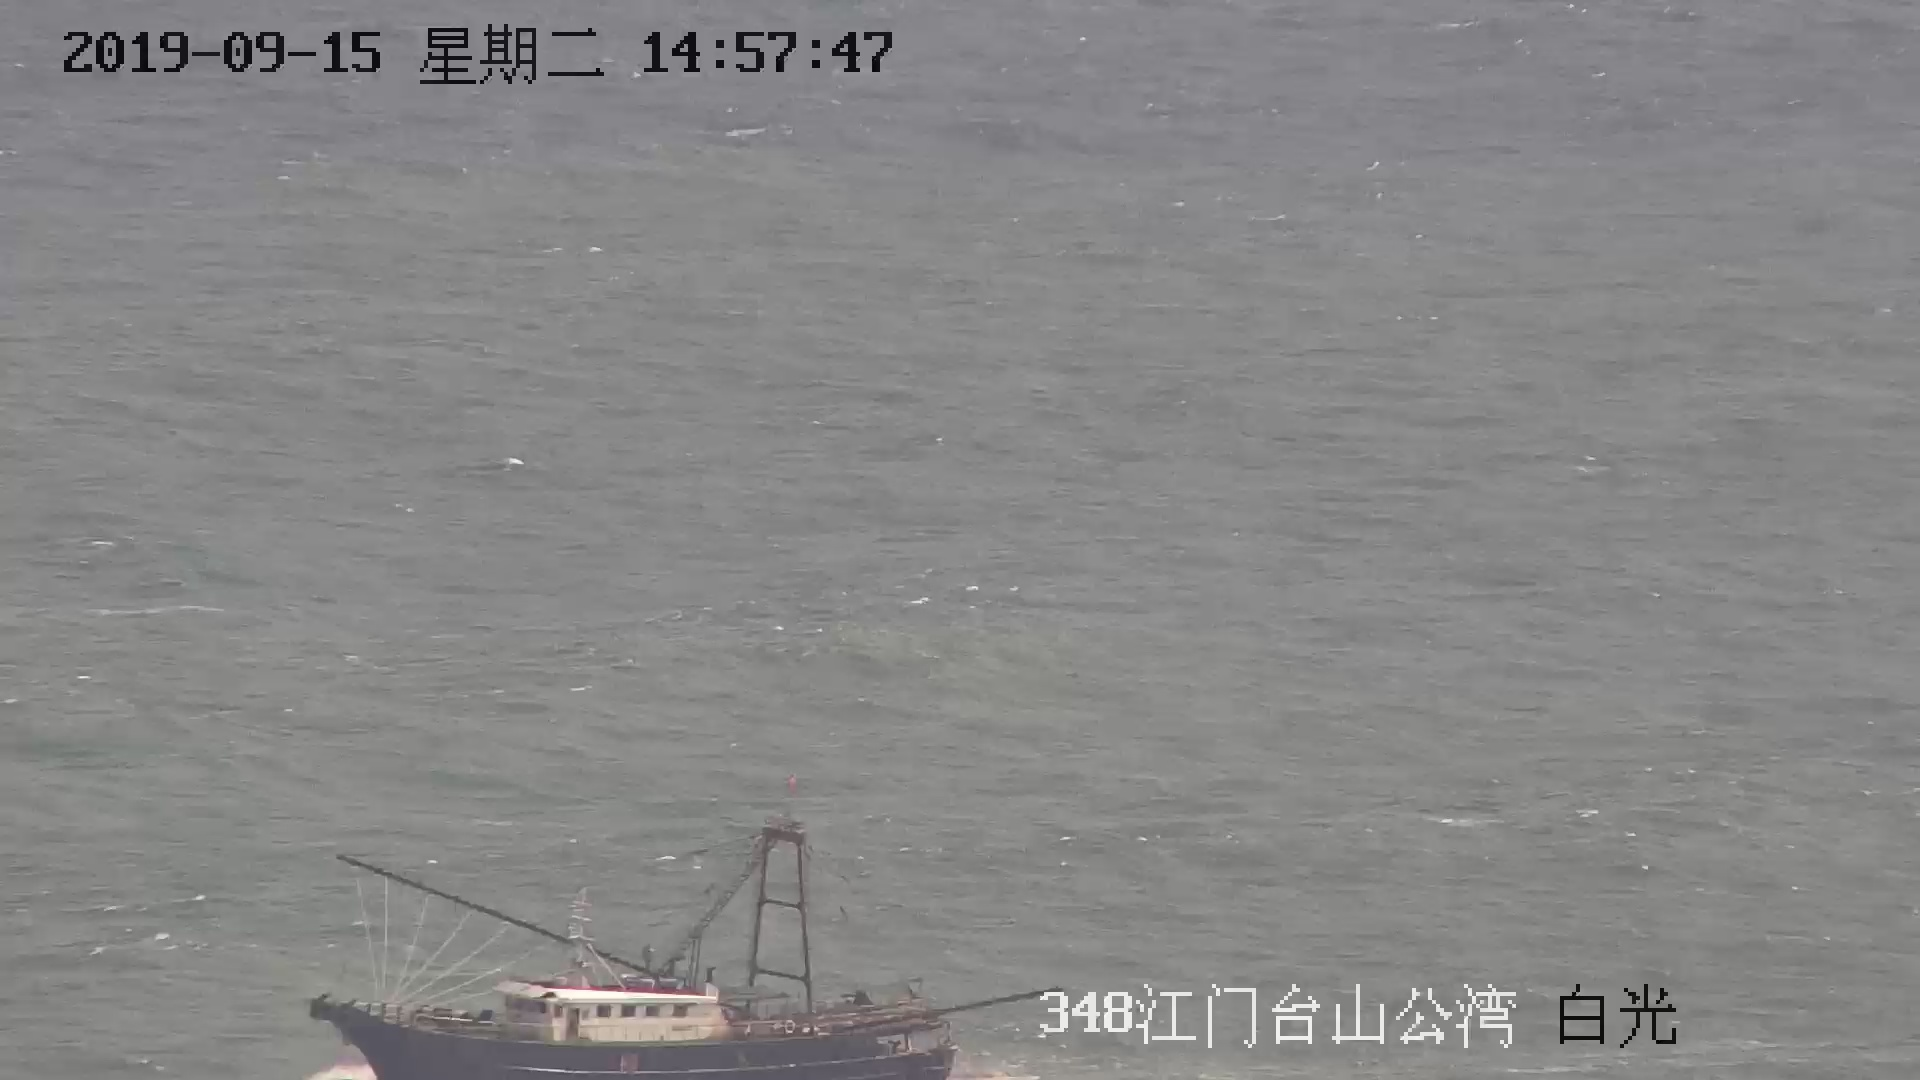ship: (316, 800, 975, 1080)
